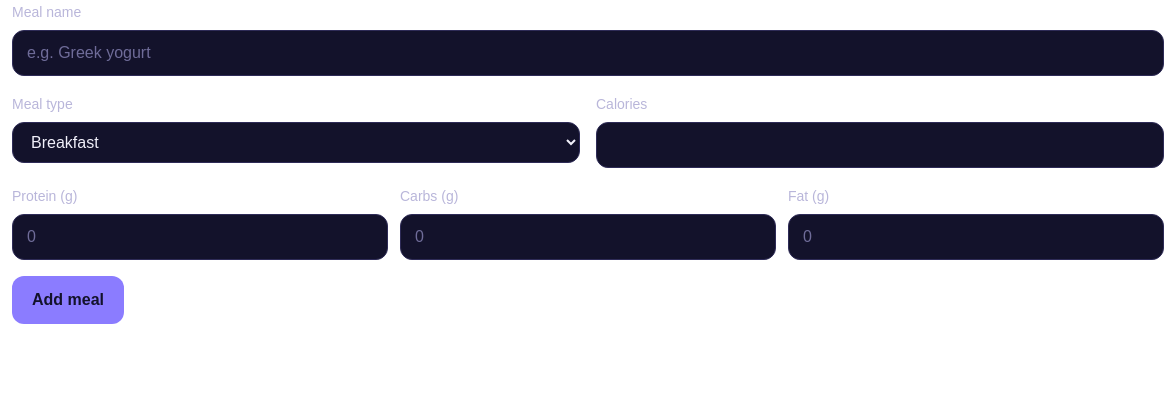
it: MealForm › keeps the values and shows the error when saving fails
This screenshot has width=1176, height=401.
Type "Apple" into the field labelled "Meal name" at point(588, 53), box [12, 30, 1164, 76]
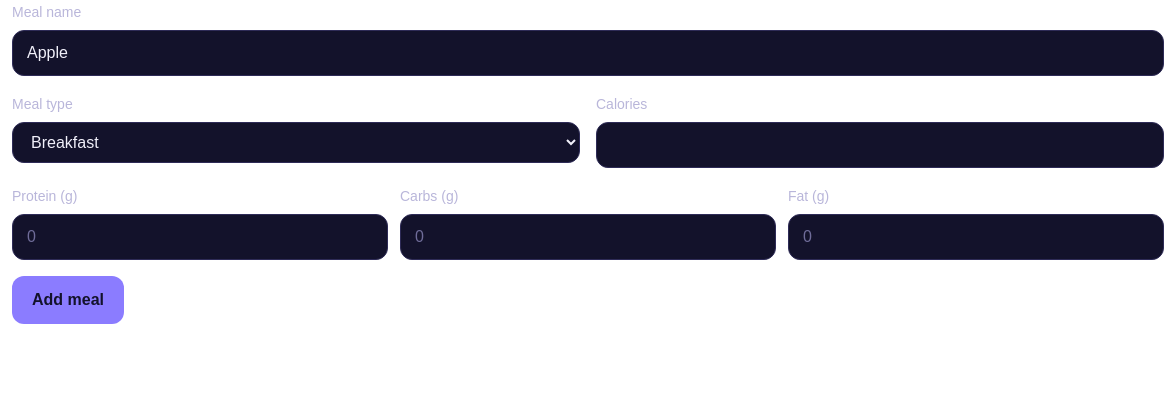
Type "95" into the number field labelled "Calories" at point(880, 145), box [596, 122, 1164, 168]
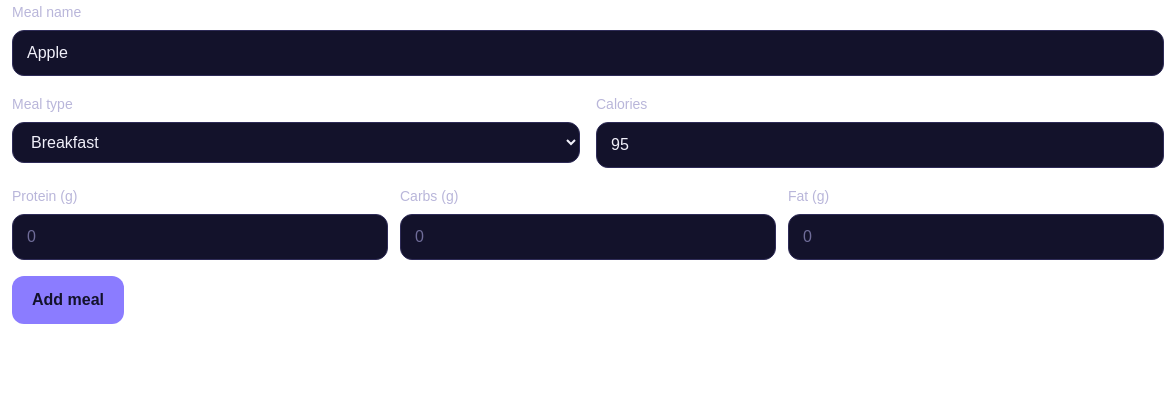
Click the button "Add meal" at point(68, 300), box [12, 276, 124, 324]
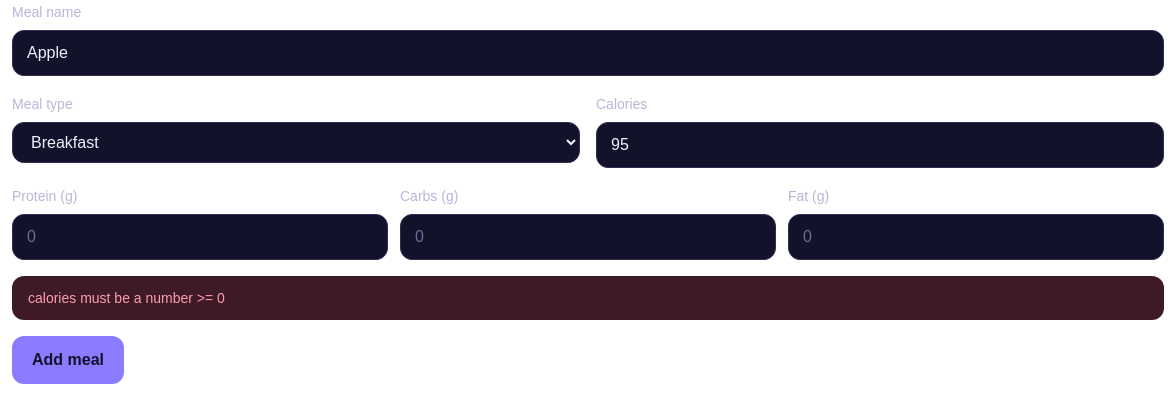
Now the message reads "calories must be a number >= 0", box [28, 290, 225, 306]
